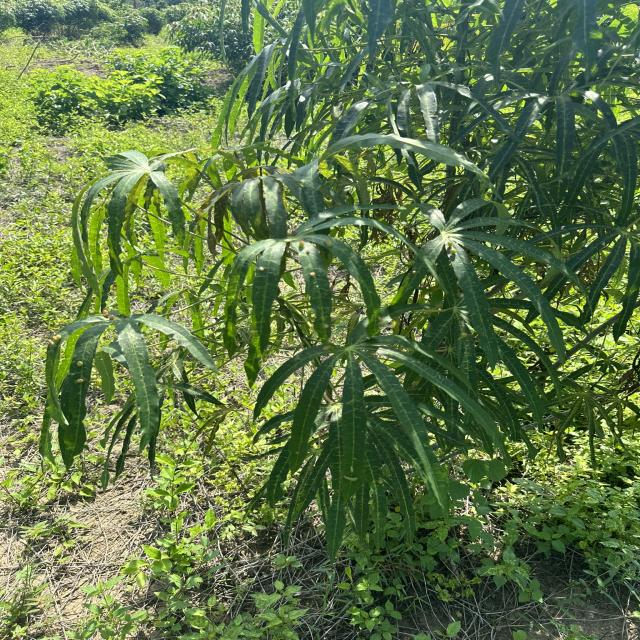Maleza: (19, 0, 195, 135), (521, 434, 640, 625), (158, 447, 272, 640)
Mosca: (44, 318, 72, 348), (344, 457, 366, 493), (289, 236, 316, 256), (73, 358, 93, 385), (302, 268, 323, 292), (438, 238, 466, 256), (250, 254, 268, 281)
